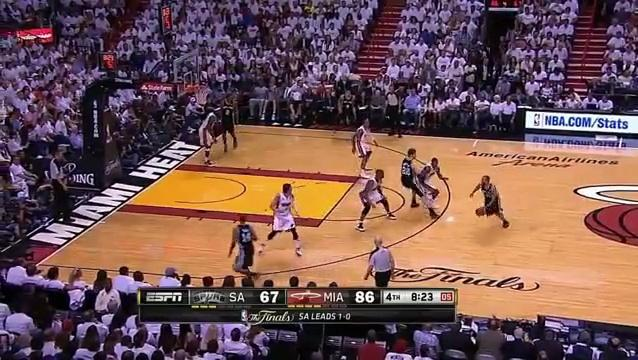Backboard: (172, 46, 201, 100)
Ball: (476, 208, 484, 217)
Basket: (191, 83, 212, 106)
Person: (260, 182, 304, 255), (226, 212, 262, 279), (358, 167, 395, 231), (474, 173, 510, 233), (417, 157, 449, 211), (198, 104, 224, 164), (397, 149, 423, 207), (217, 92, 240, 153), (351, 117, 375, 175), (333, 87, 359, 136)
Referee: (47, 148, 76, 225), (365, 236, 397, 290), (383, 87, 402, 136)
Shot Clock: (156, 7, 175, 34), (97, 53, 117, 72)
